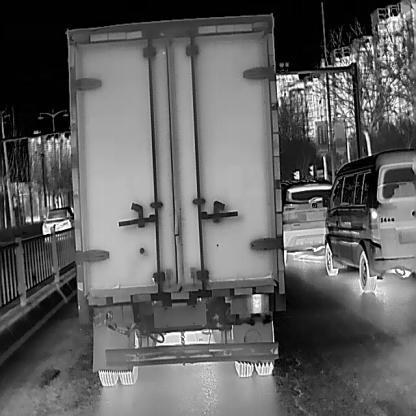car: (63, 11, 284, 389), (325, 149, 416, 293), (282, 178, 334, 262), (41, 206, 71, 238)
